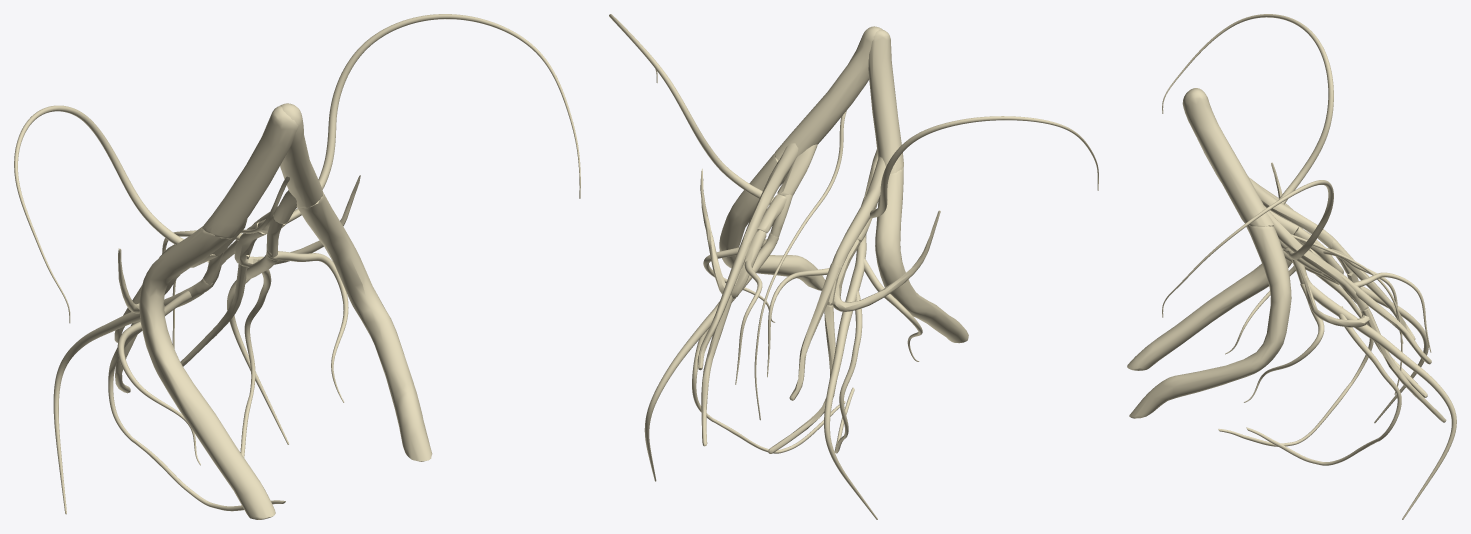
File: bodyparts3d-venous-pelvis.glb
3 views of the same model, side by side, from view 1: azimuth 30°, elevation 25°; view 2: azimuth 150°, elevation 25°; view 3: azimuth 270°, elevation 25° (orthographic). The views are drawn at different scales.
Visible parts, largest first — view 1: venous-external-iliac-vein-right, venous-external-iliac-vein-left, venous-common-iliac-vein-right, venous-iliolumbar-vein-left, venous-iliolumbar-vein-right, venous-common-iliac-vein-left, venous-inferior-gluteal-vein-right, venous-internal-iliac-vein-left, venous-internal-pudendal-vein-right, venous-internal-iliac-vein-right, venous-obturator-vein-right, venous-superior-gluteal-vein-left (+3 smaller); view 2: venous-external-iliac-vein-left, venous-external-iliac-vein-right, venous-internal-iliac-vein-right, venous-common-iliac-vein-left, venous-internal-iliac-vein-left, venous-common-iliac-vein-right, venous-inferior-gluteal-vein-right, venous-inferior-gluteal-vein-left, venous-iliolumbar-vein-right, venous-iliolumbar-vein-left, venous-superior-gluteal-vein-right, venous-superior-gluteal-vein-left (+5 smaller); view 3: venous-external-iliac-vein-left, venous-common-iliac-vein-left, venous-external-iliac-vein-right, venous-internal-iliac-vein-left, venous-internal-iliac-vein-right, venous-inferior-gluteal-vein-left, venous-iliolumbar-vein-right, venous-internal-pudendal-vein-left, venous-iliolumbar-vein-left, venous-internal-pudendal-vein-right, venous-inferior-gluteal-vein-right, venous-superior-gluteal-vein-left (+4 smaller).
Boxes of the visible parts, x1,y1,x2,y2 form: venous-external-iliac-vein-right: (139,226,275,519); venous-external-iliac-vein-left: (257,190,432,461); venous-common-iliac-vein-right: (202,106,298,239); venous-iliolumbar-vein-left: (286,14,580,223); venous-iliolumbar-vein-right: (14,105,209,323); venous-common-iliac-vein-left: (280,103,322,208); venous-inferior-gluteal-vein-right: (53,278,212,514); venous-internal-iliac-vein-left: (180,206,296,366); venous-internal-pudendal-vein-right: (108,305,285,511); venous-internal-iliac-vein-right: (114,219,247,393); venous-obturator-vein-right: (117,291,200,465); venous-superior-gluteal-vein-left: (234,175,360,267); venous-external-iliac-vein-left: (719,144,825,290); venous-external-iliac-vein-right: (875,167,968,343); venous-internal-iliac-vein-right: (768,149,885,453); venous-common-iliac-vein-left: (774,26,882,160); venous-internal-iliac-vein-left: (697,143,798,446); venous-common-iliac-vein-right: (868,29,903,173); venous-inferior-gluteal-vein-right: (824,238,877,519); venous-inferior-gluteal-vein-left: (644,233,778,481); venous-iliolumbar-vein-right: (870,116,1098,218); venous-iliolumbar-vein-left: (609,14,774,204); venous-superior-gluteal-vein-right: (833,210,940,311); venous-superior-gluteal-vein-left: (700,168,766,298); venous-external-iliac-vein-left: (1129,225,1321,418); venous-common-iliac-vein-left: (1183,88,1274,226); venous-external-iliac-vein-right: (1127,178,1302,370); venous-internal-iliac-vein-left: (1264,205,1446,422); venous-internal-iliac-vein-right: (1248,177,1427,397); venous-inferior-gluteal-vein-left: (1303,275,1456,519); venous-iliolumbar-vein-right: (1162,14,1333,204); venous-internal-pudendal-vein-left: (1246,306,1401,465); venous-iliolumbar-vein-left: (1162,180,1333,317); venous-internal-pudendal-vein-right: (1218,274,1373,446); venous-inferior-gluteal-vein-right: (1282,249,1428,423); venous-superior-gluteal-vein-left: (1299,267,1369,327).
Size of the model in its own units: 0.2558 by 0.2119 by 0.167.
